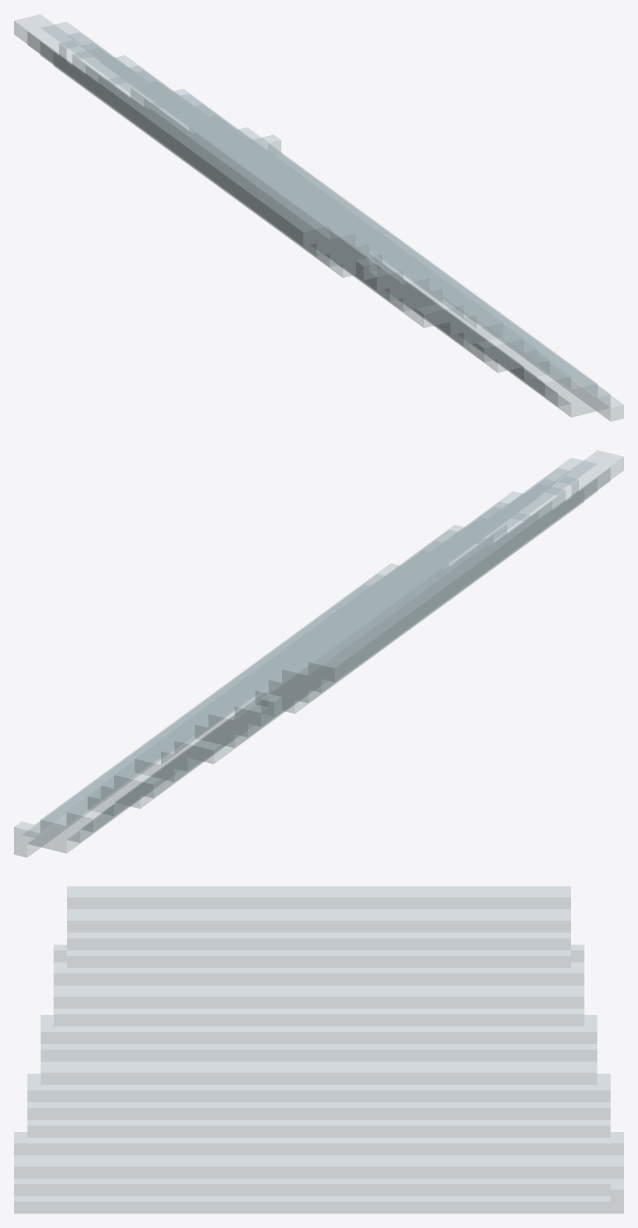
The model's file is electric_crossover_windscreen.glb.
The picture shows the model from 3 angles, top to bottom: view 1: azimuth 30°, elevation 25°; view 2: azimuth 150°, elevation 25°; view 3: azimuth 270°, elevation 25°; orthographic projection. The views are drawn at different scales.
Visible parts, largest first — view 1: body:compound; view 2: body:compound; view 3: body:compound.
Boxes of the visible parts, left/top/right/bottom form: body:compound: left=14, top=14, right=623, bottom=421; body:compound: left=14, top=450, right=623, bottom=857; body:compound: left=14, top=886, right=623, bottom=1213.
Size of the model in its own units: 0.6875 by 0.5312 by 1.44.
